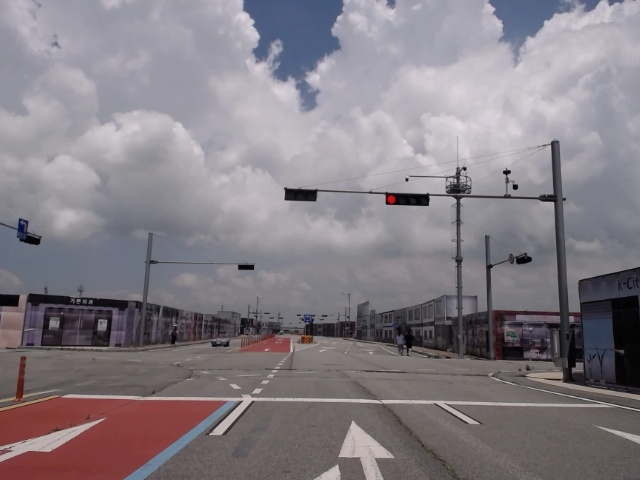red_4: (386, 193, 429, 205)
